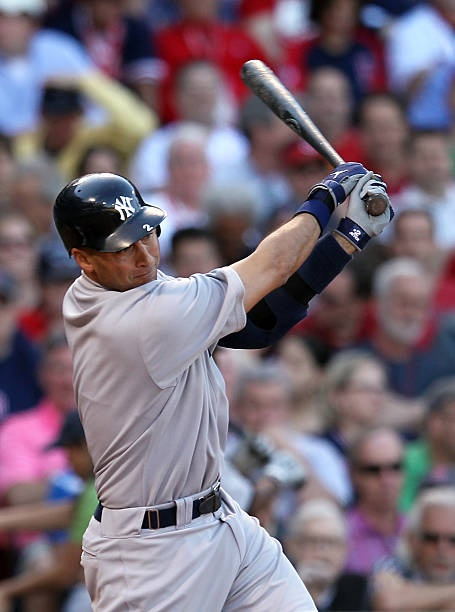bita: (239, 55, 378, 205)
